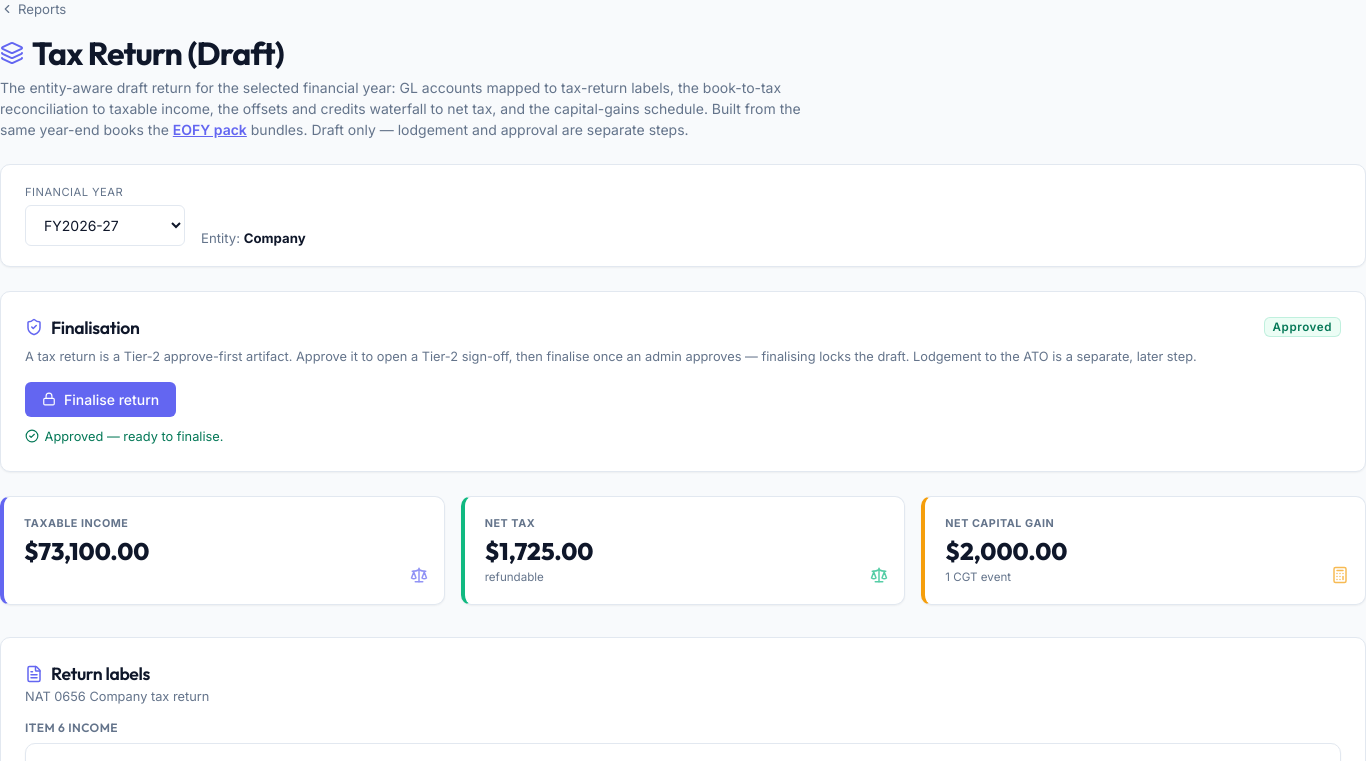
Scenario: TaxReturnPage (SC-4.I.02 / SC-4.I.03) › gates Finalise until an approval row exists, then locks the draft read-only
Check: the text "Approved — ready to finalise." is shown, box [25,429,223,444]
Click the button "Finalise return" at (101, 399), box [25,382,176,417]
(page scrolled)
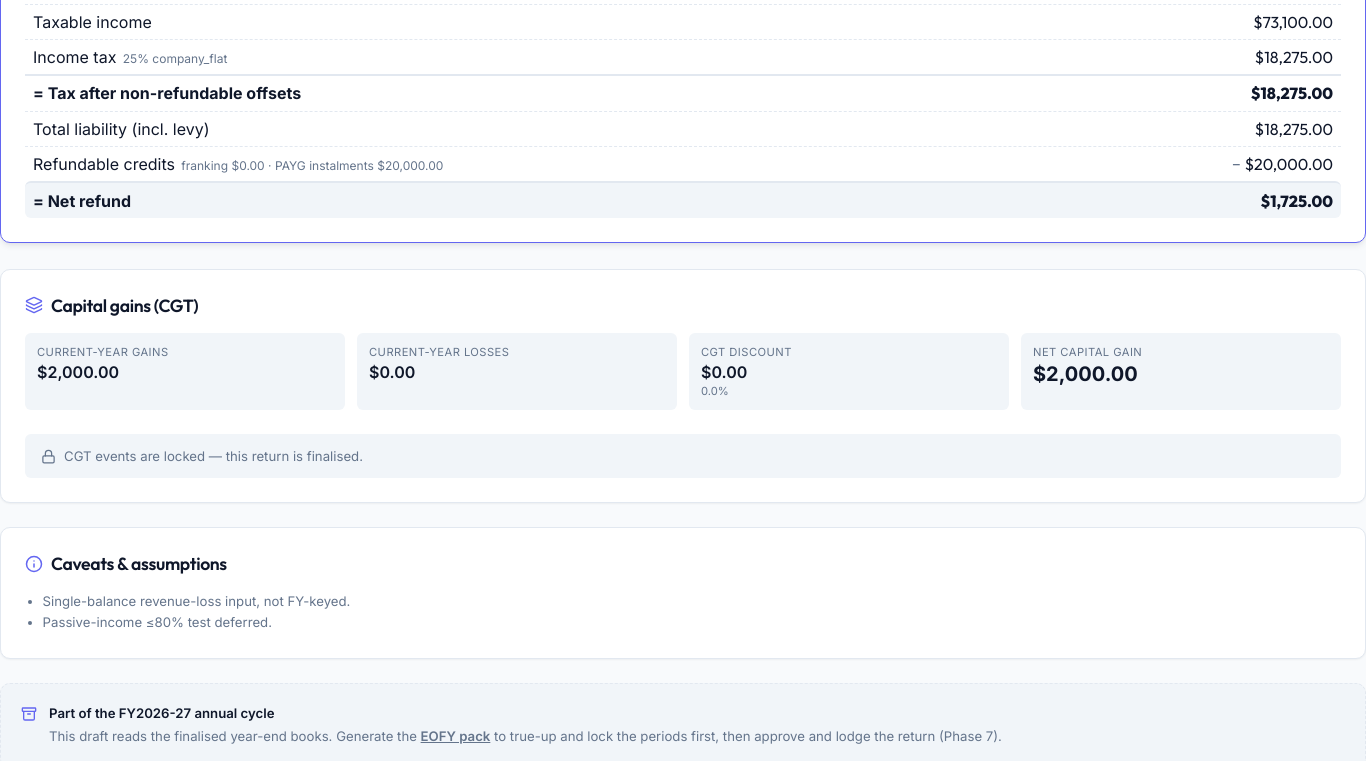
Check: the text "CGT events are locked — this return is finalised." is shown, box [64,448,363,464]
